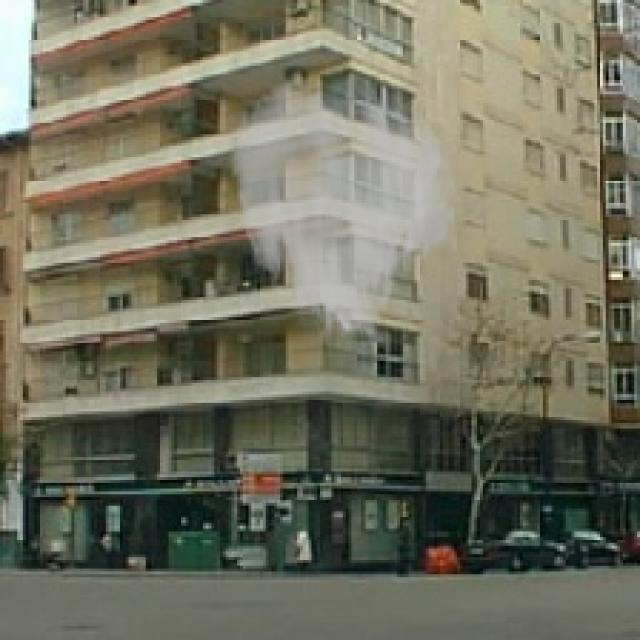Smoke: (228, 74, 461, 354)
